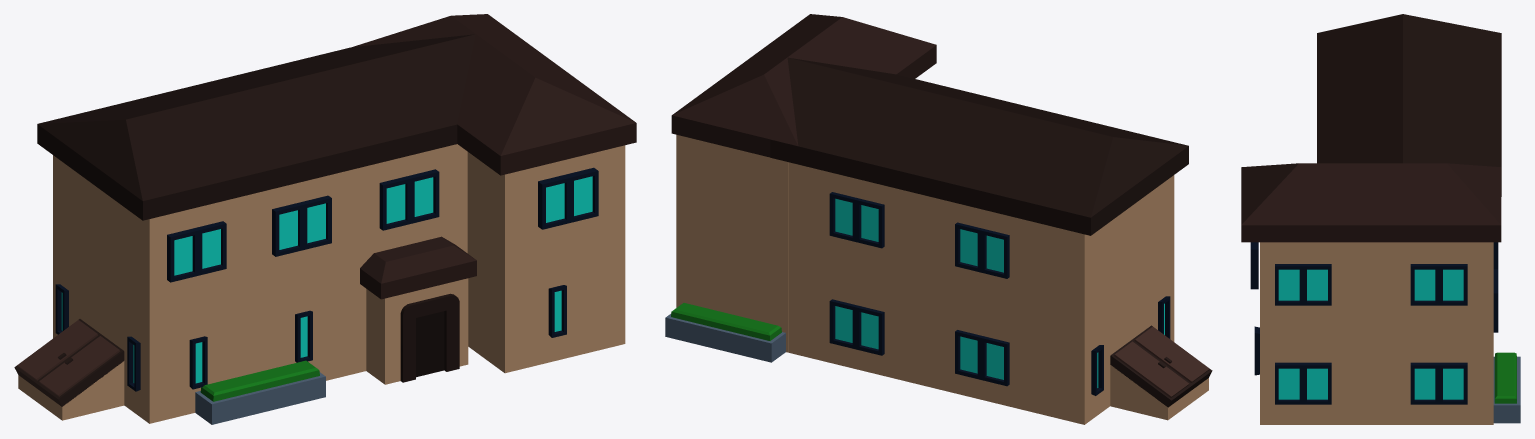
Rendered from House_9.fbx.
The picture shows the model from 3 angles, left to right: view 1: azimuth 30°, elevation 25°; view 2: azimuth 150°, elevation 25°; view 3: azimuth 270°, elevation 25°; orthographic projection. The views are drawn at different scales.
Visible parts, largest first — view 1: House_9; view 2: House_9; view 3: House_9.
Part boxes in pixels (bbox=[...]): House_9: bbox=[14, 14, 636, 424]; House_9: bbox=[665, 14, 1212, 424]; House_9: bbox=[1241, 14, 1520, 424].
Bounding box in the file's own units: 85.56 × 42.7 × 46.45.
